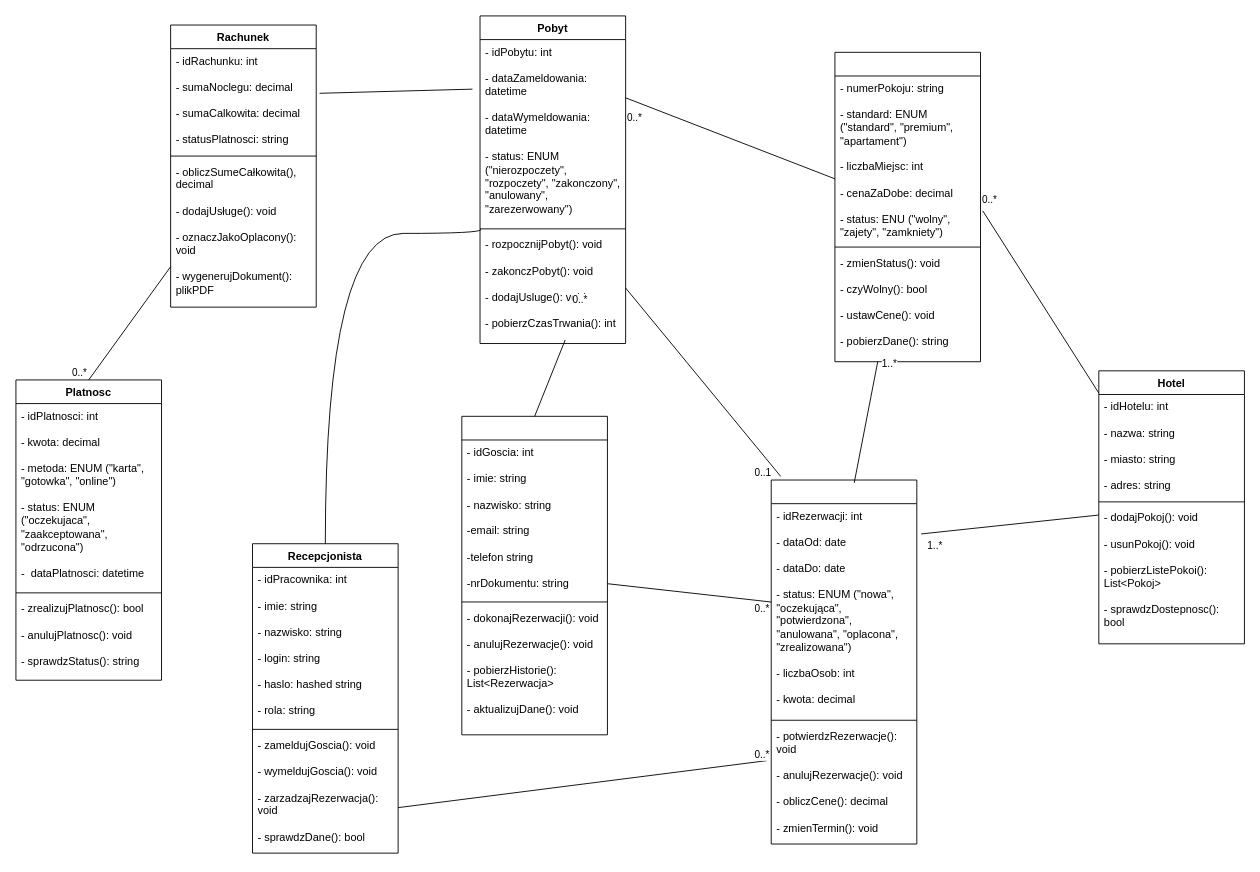
The diagram is 1260 pixels wide and 872 high, and some of its shapes have lost their labels. The box of each missing label's shape, as (x1, y1, x2, y2) in pixels:
Gość: (461, 415, 607, 735)
Pokój: (834, 51, 981, 362)
Rezerwacja: (770, 479, 917, 844)
